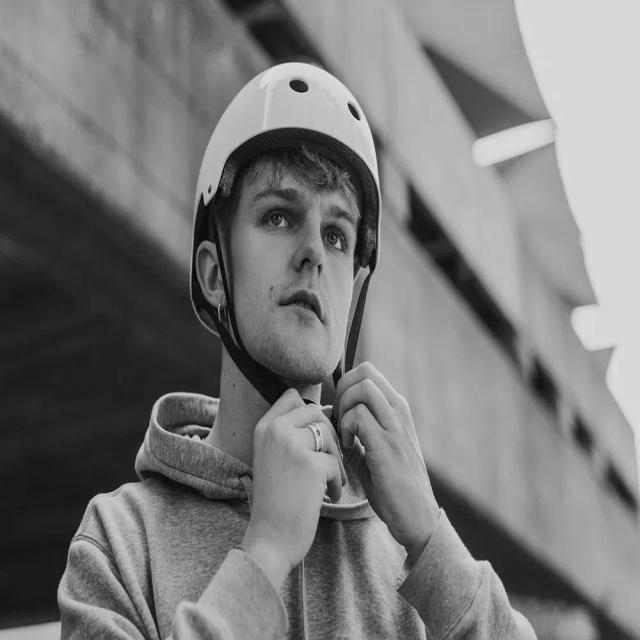helmet: (181, 35, 435, 271)
